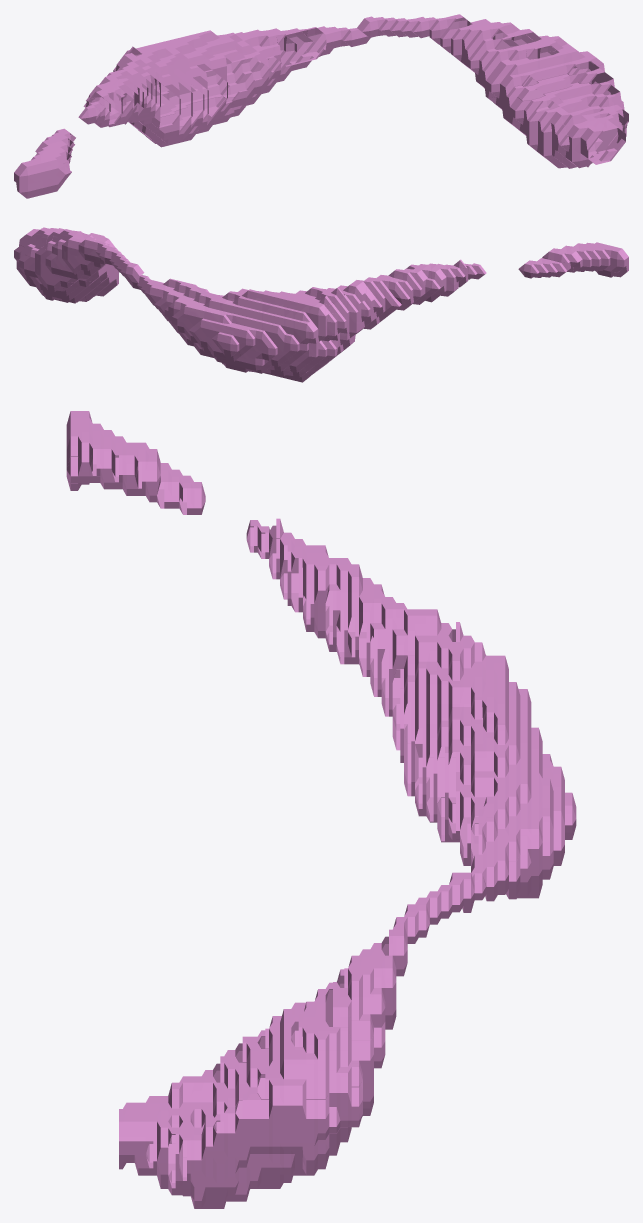
Rendered from SVV_ADER.gltf.
The picture shows the model from 3 angles, top to bottom: view 1: azimuth 30°, elevation 25°; view 2: azimuth 150°, elevation 25°; view 3: azimuth 270°, elevation 25°; orthographic projection. The views are drawn at different scales.
Parts seen in each view (by area): view 1: ADER; view 2: ADER; view 3: ADER.
Boxes of the visible parts, x1,y1,x2,y2 form: ADER: [14, 14, 628, 198]; ADER: [14, 227, 628, 382]; ADER: [66, 411, 576, 1208].
Bounding box in the file's own units: 43539 × 10762 × 17420.
